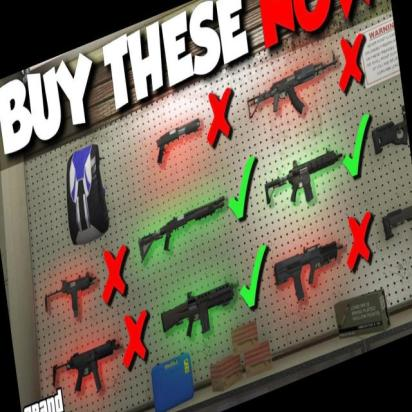Gun: (135, 192, 227, 266), (248, 55, 341, 128), (257, 141, 349, 214), (158, 278, 236, 352), (46, 336, 122, 409)
